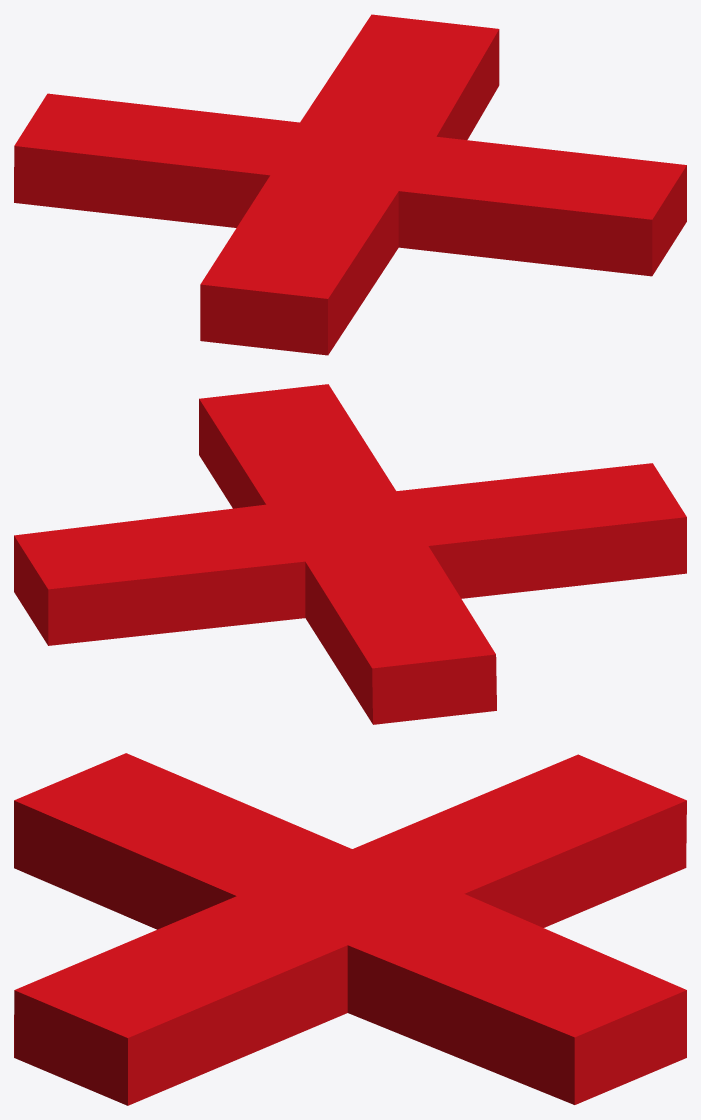
File: cross.fbx
The picture shows the model from 3 angles, top to bottom: view 1: azimuth 30°, elevation 25°; view 2: azimuth 150°, elevation 25°; view 3: azimuth 270°, elevation 25°; orthographic projection. The views are drawn at different scales.
Visible parts, largest first — view 1: cross; view 2: cross; view 3: cross.
Part boxes in pixels (x1,y1,x2,y2): cross: (14, 14, 686, 355); cross: (14, 384, 686, 724); cross: (14, 753, 686, 1105).
Size of the model in its own units: 9.02 by 1 by 9.
